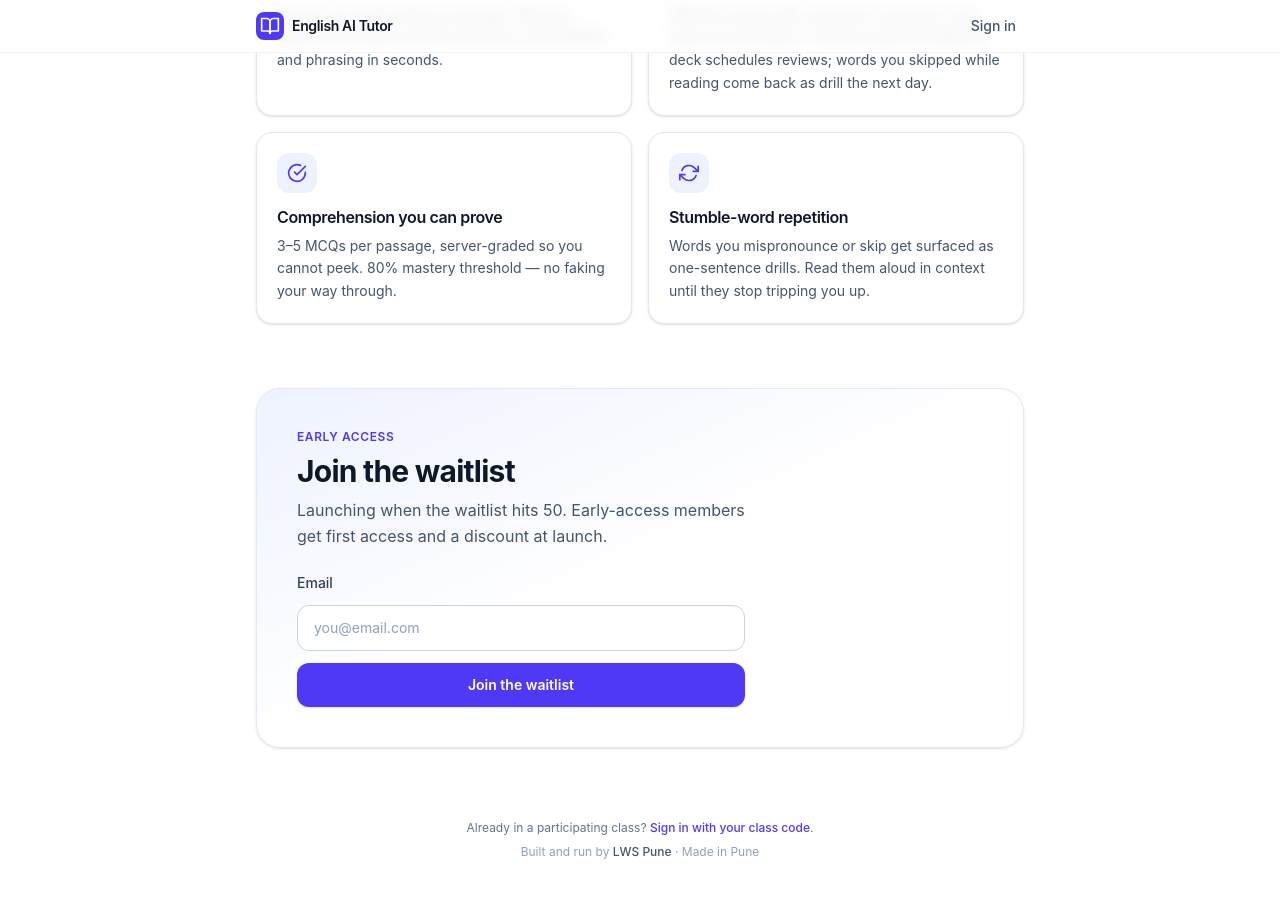
it: LandingPage — waitlist form › shows a friendly "already on the list" message on duplicate email
(page scrolled)
Step 1. Type "a@b.com" into the field labelled "Email" → {"x": 521, "y": 628}, box 297,605 -> 745,651
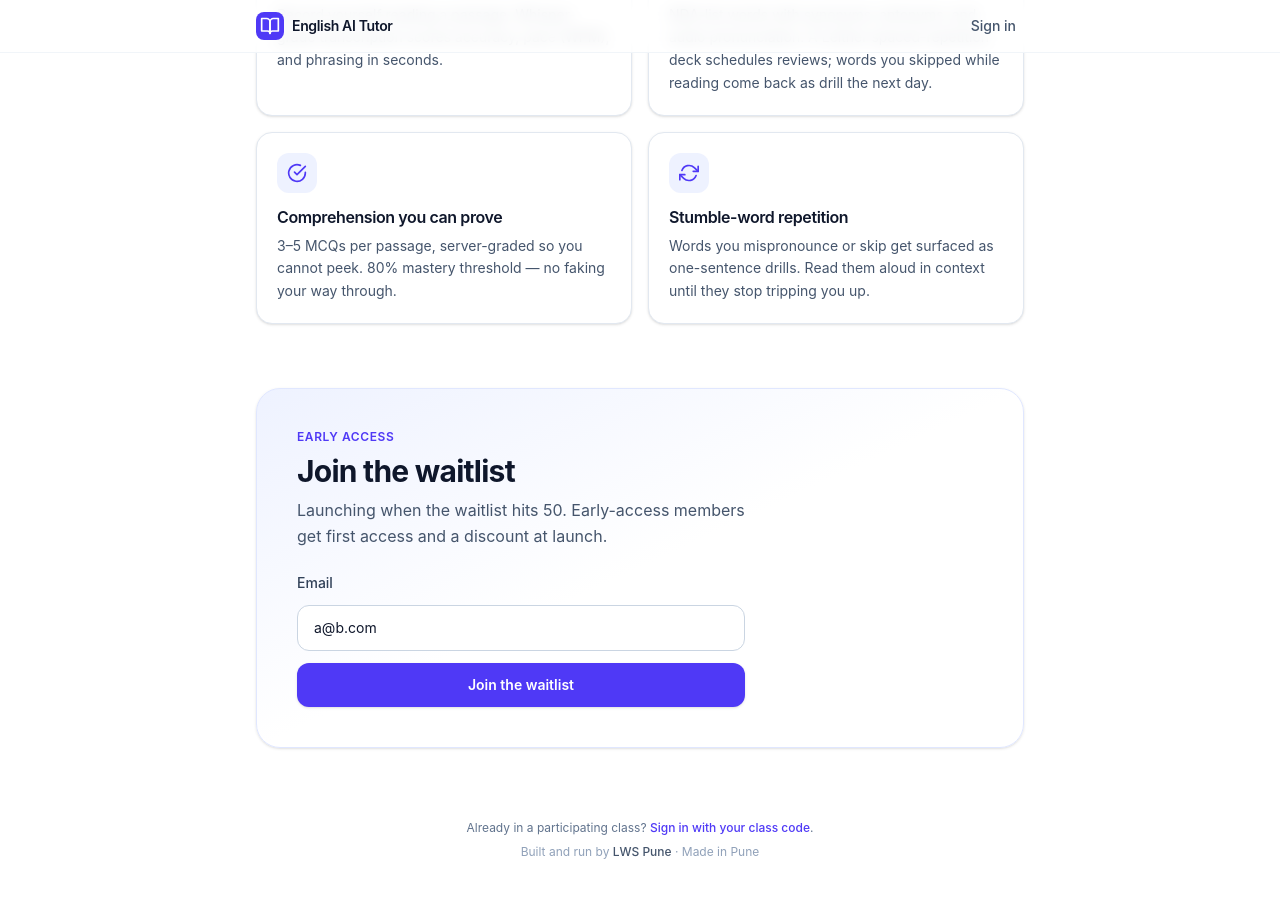
Step 2. Click the button "Join the waitlist" → {"x": 521, "y": 685}, box 297,663 -> 745,707
(page scrolled)
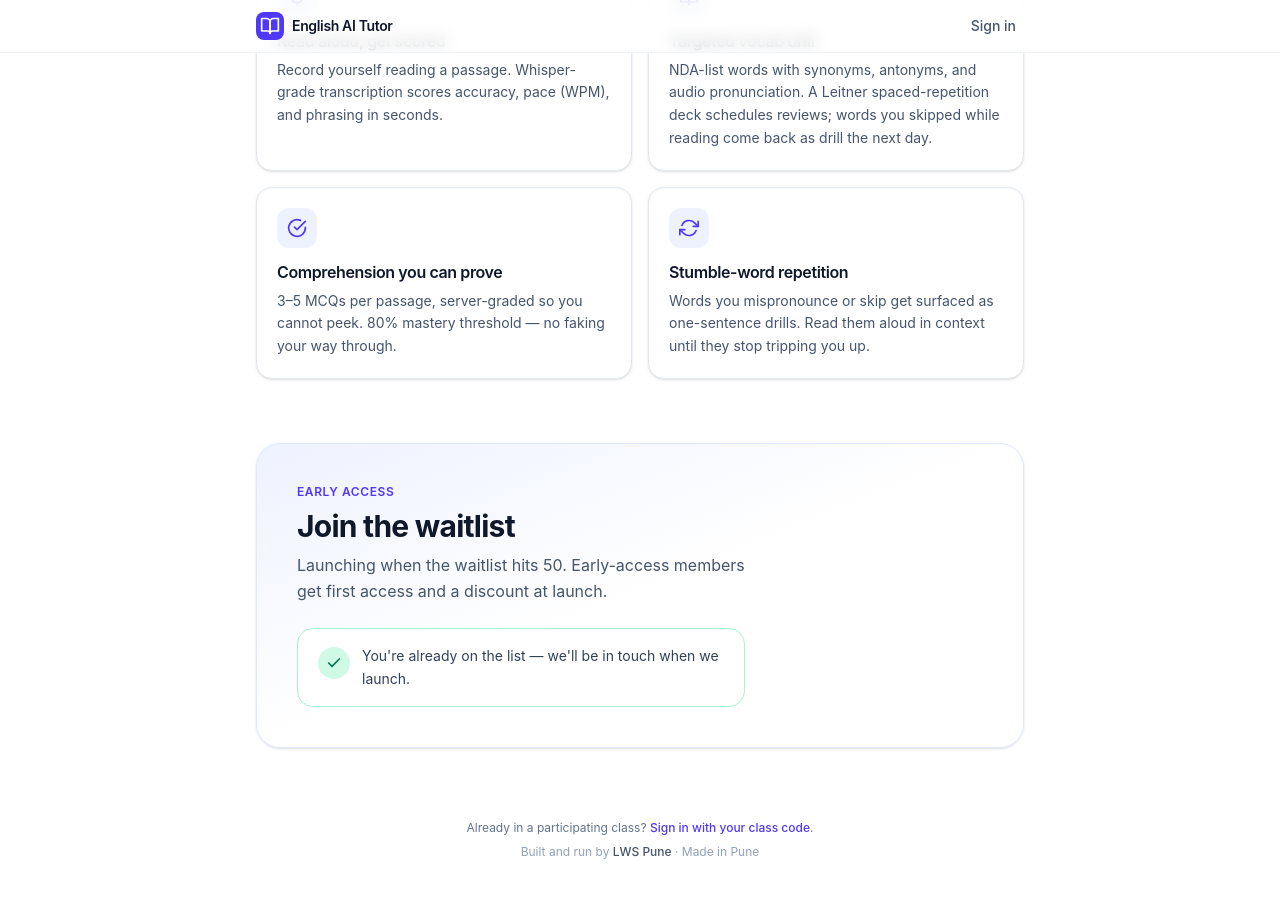
Expected: the text "already on the list" is shown, 362,647 -> 719,687
